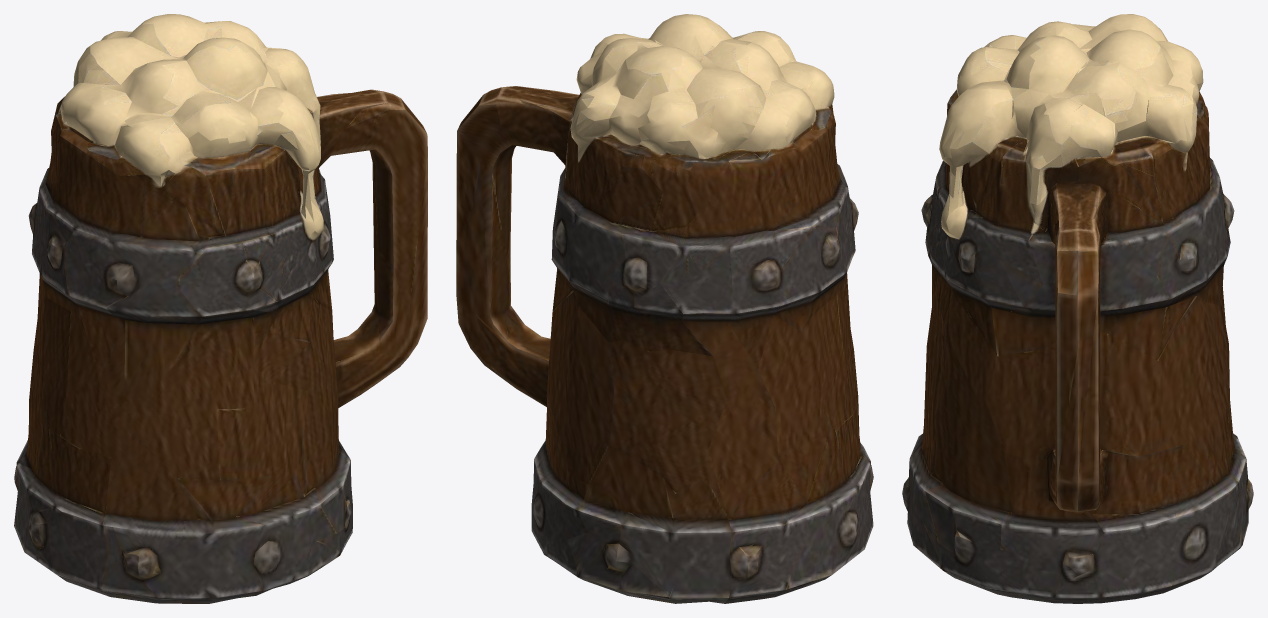
Rendered from brawler_mug.glb.
3 renders of one model, left to right at view 1: azimuth 30°, elevation 25°; view 2: azimuth 150°, elevation 25°; view 3: azimuth 270°, elevation 25°, orthographic.
Bounding box in the file's own units: 0.4506 × 0.5484 × 0.3437.
1 material, 1 textured.
